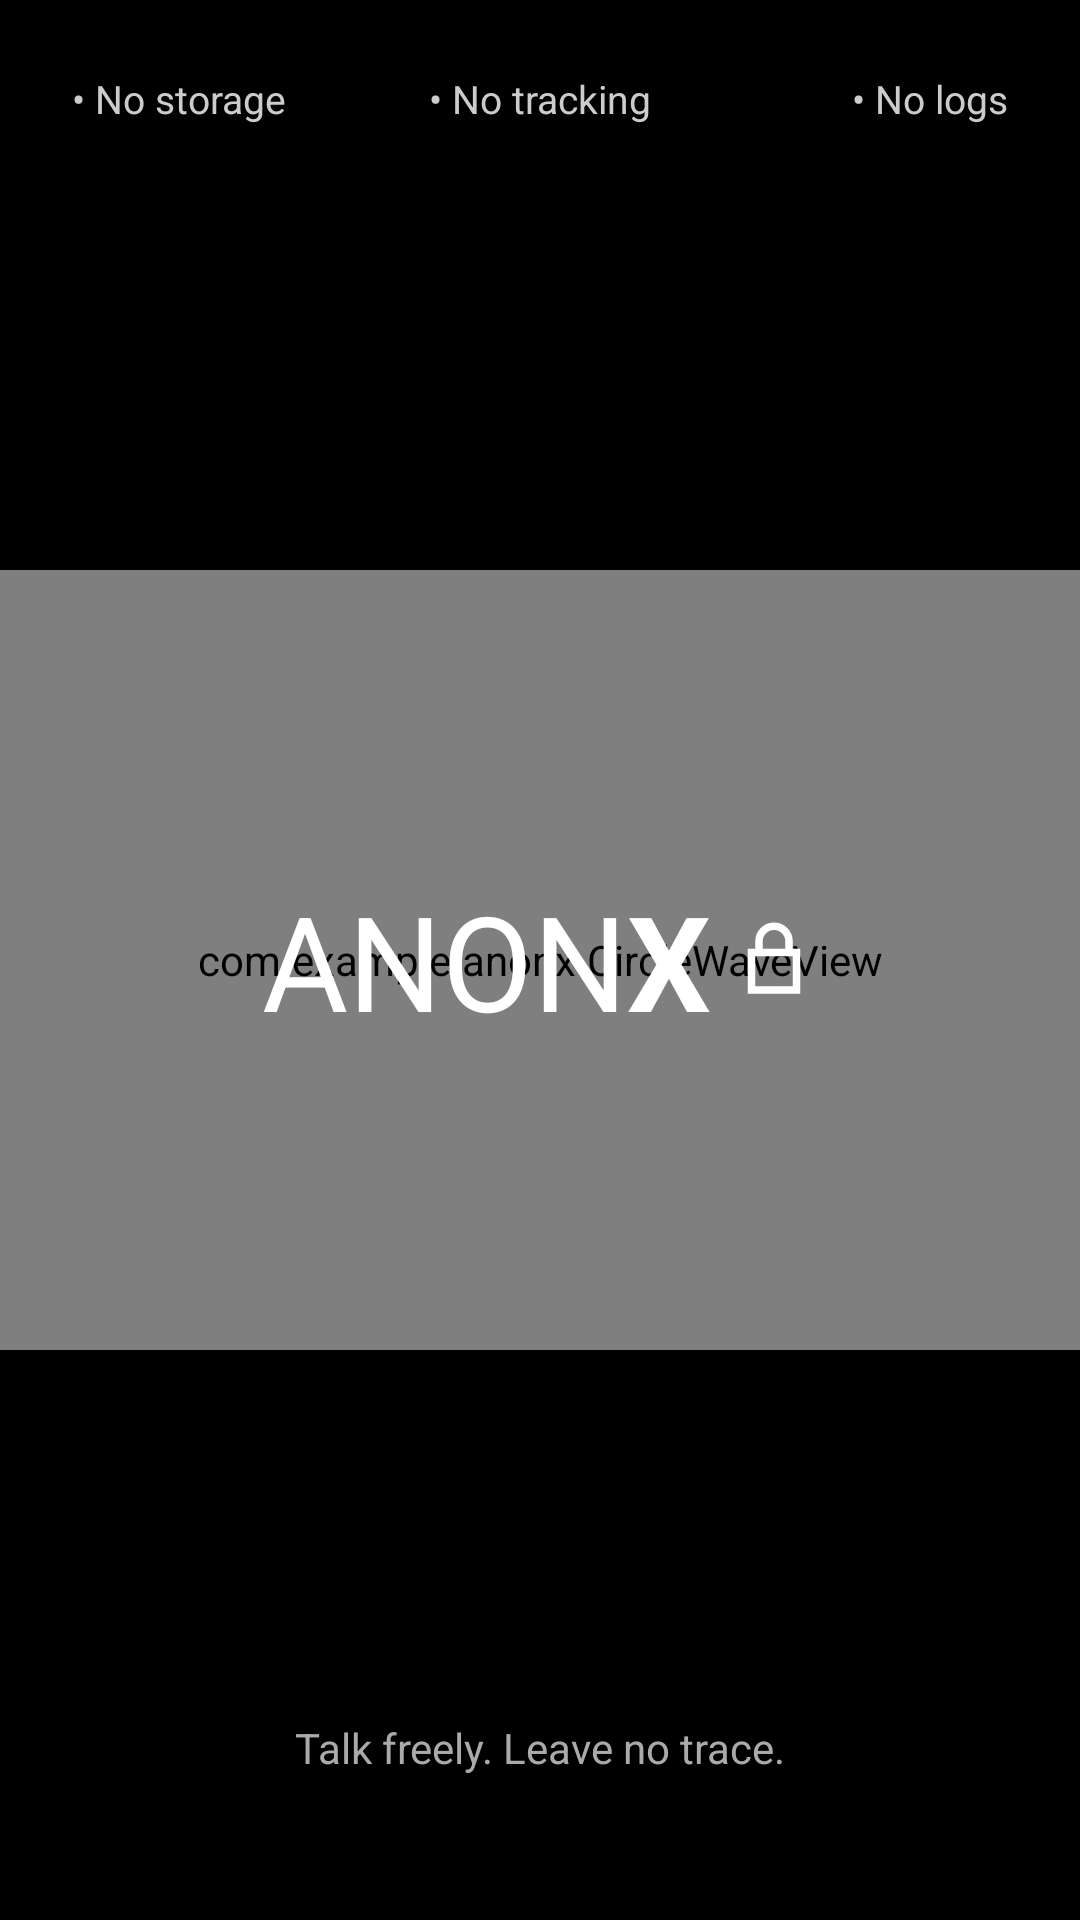

Screen size 1080w x 1920h. Icon name, then its center in pixels as (x=x, y=y):
Lock Icon: (x=774, y=958)
